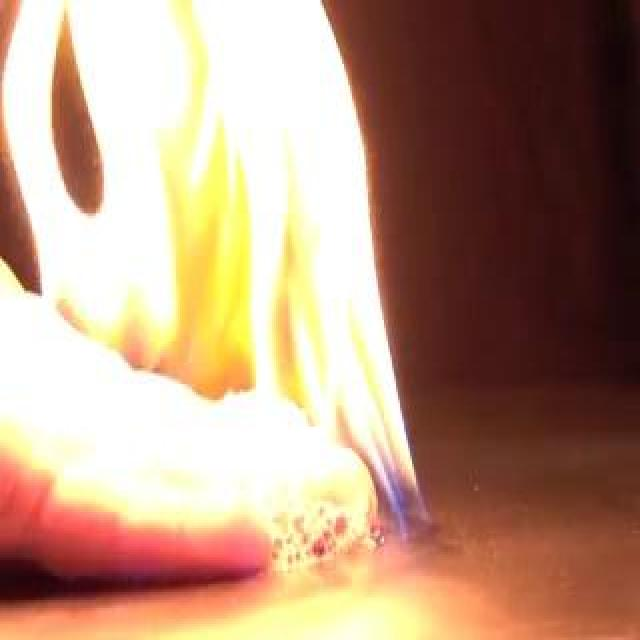Fire: (24, 3, 416, 544)
